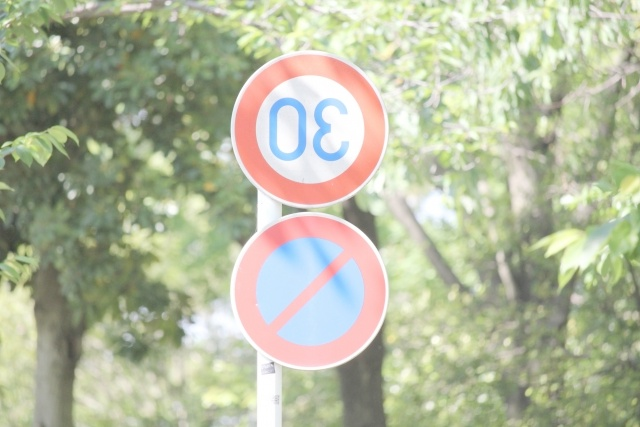Prohibition_sign: (234, 209, 400, 388)
